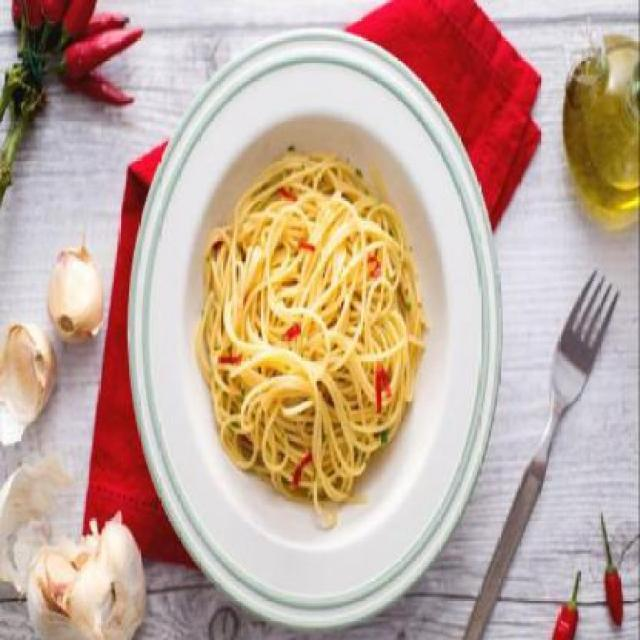Oil pasta: (214, 114, 448, 576)
